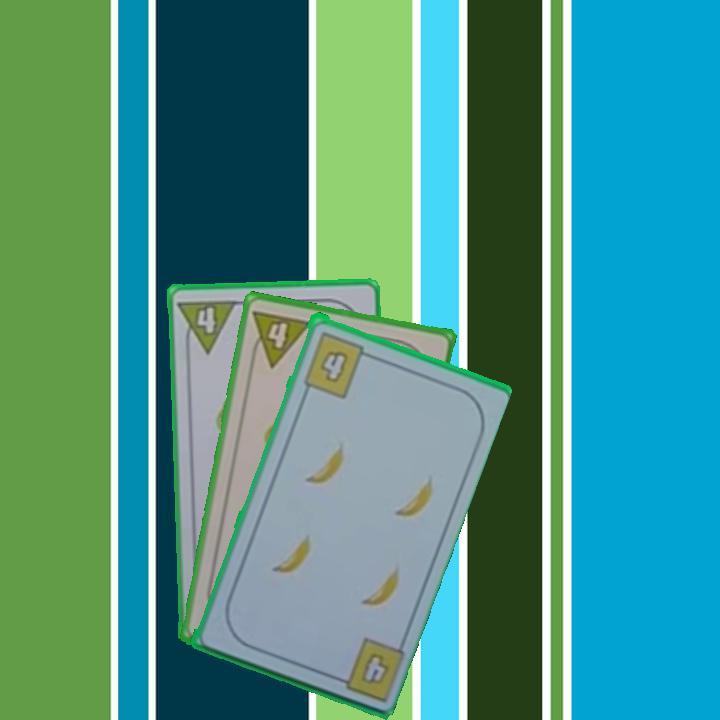4b: (326, 632, 405, 704), (299, 327, 374, 400)
4p: (246, 306, 314, 370), (175, 295, 240, 356)
